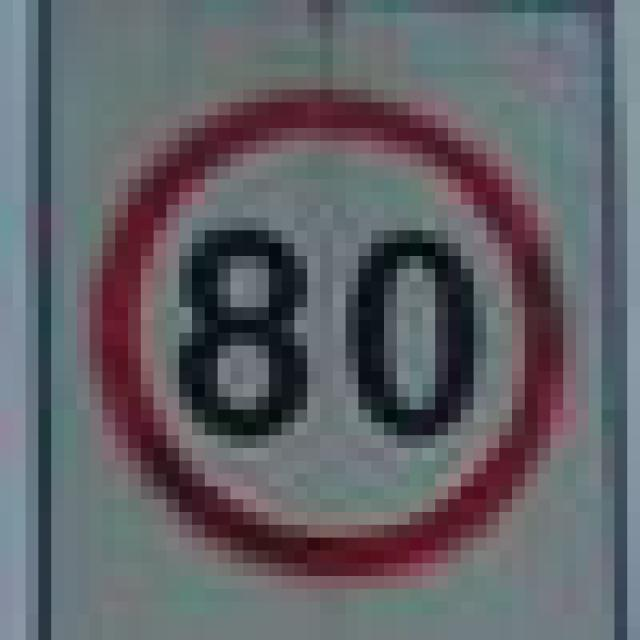speed_limit_50: (77, 77, 550, 576)
